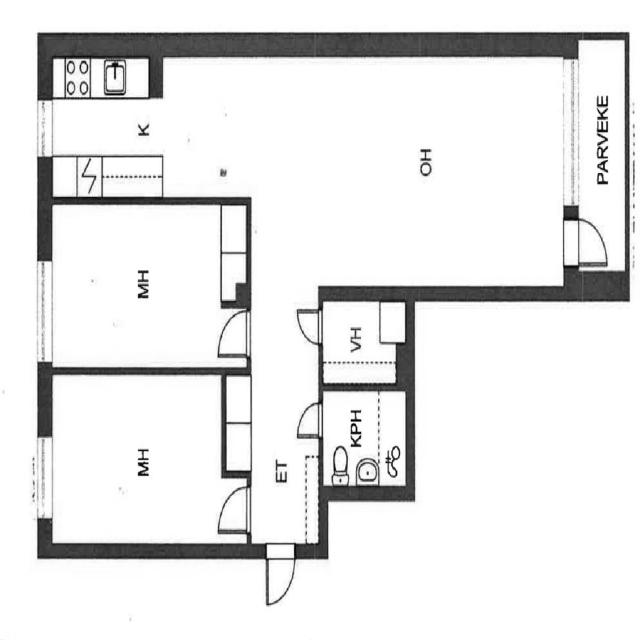door: (42, 366, 241, 560), (557, 208, 614, 273), (210, 303, 255, 365), (292, 398, 326, 444), (293, 304, 326, 348)
window: (554, 44, 588, 222), (30, 245, 59, 377), (30, 422, 60, 532), (32, 94, 56, 166)
zone: (45, 50, 566, 202), (46, 199, 241, 371), (320, 384, 410, 494), (320, 295, 408, 388), (210, 303, 254, 365), (263, 539, 297, 614), (213, 480, 254, 538)
